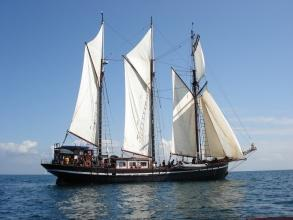fanchuan: (44, 12, 262, 182)
